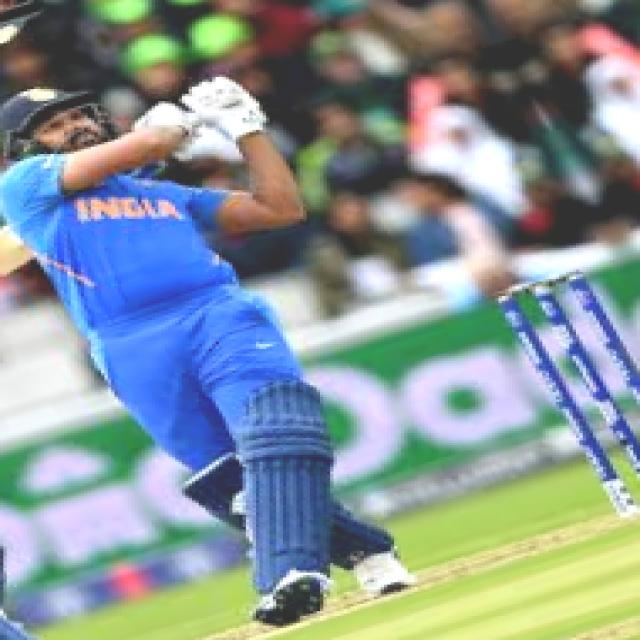toe: (0, 227, 21, 284)
